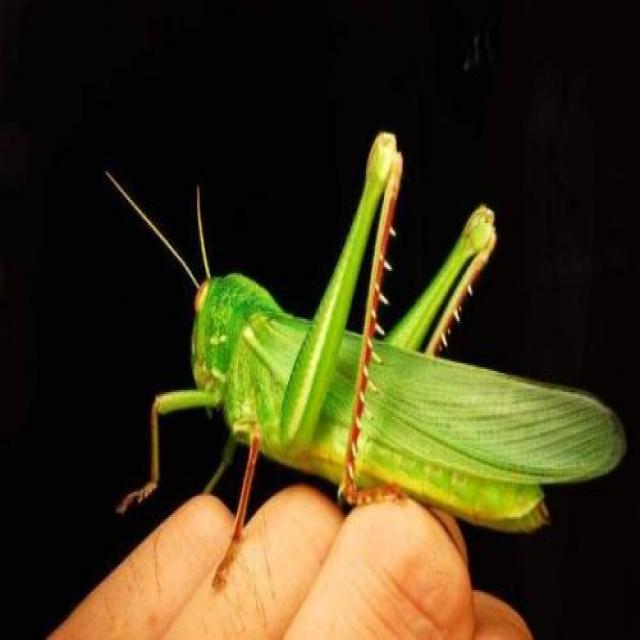ZhaMeng: (94, 103, 626, 573)
